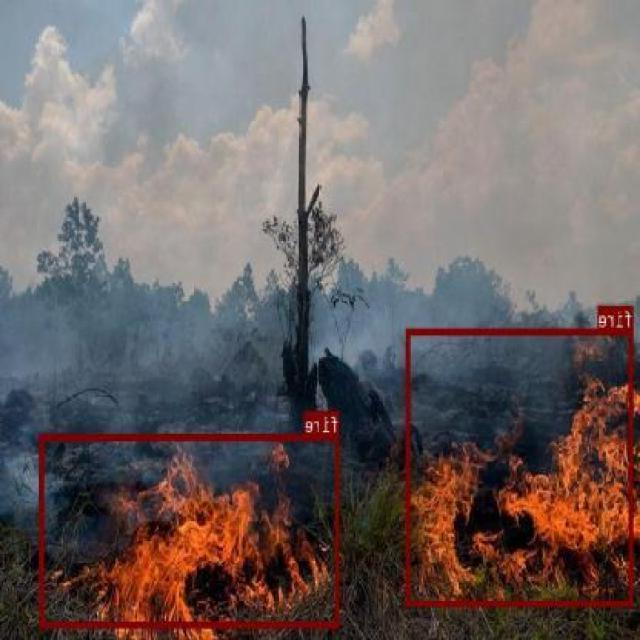Fire: (408, 328, 634, 606), (42, 432, 340, 626)
